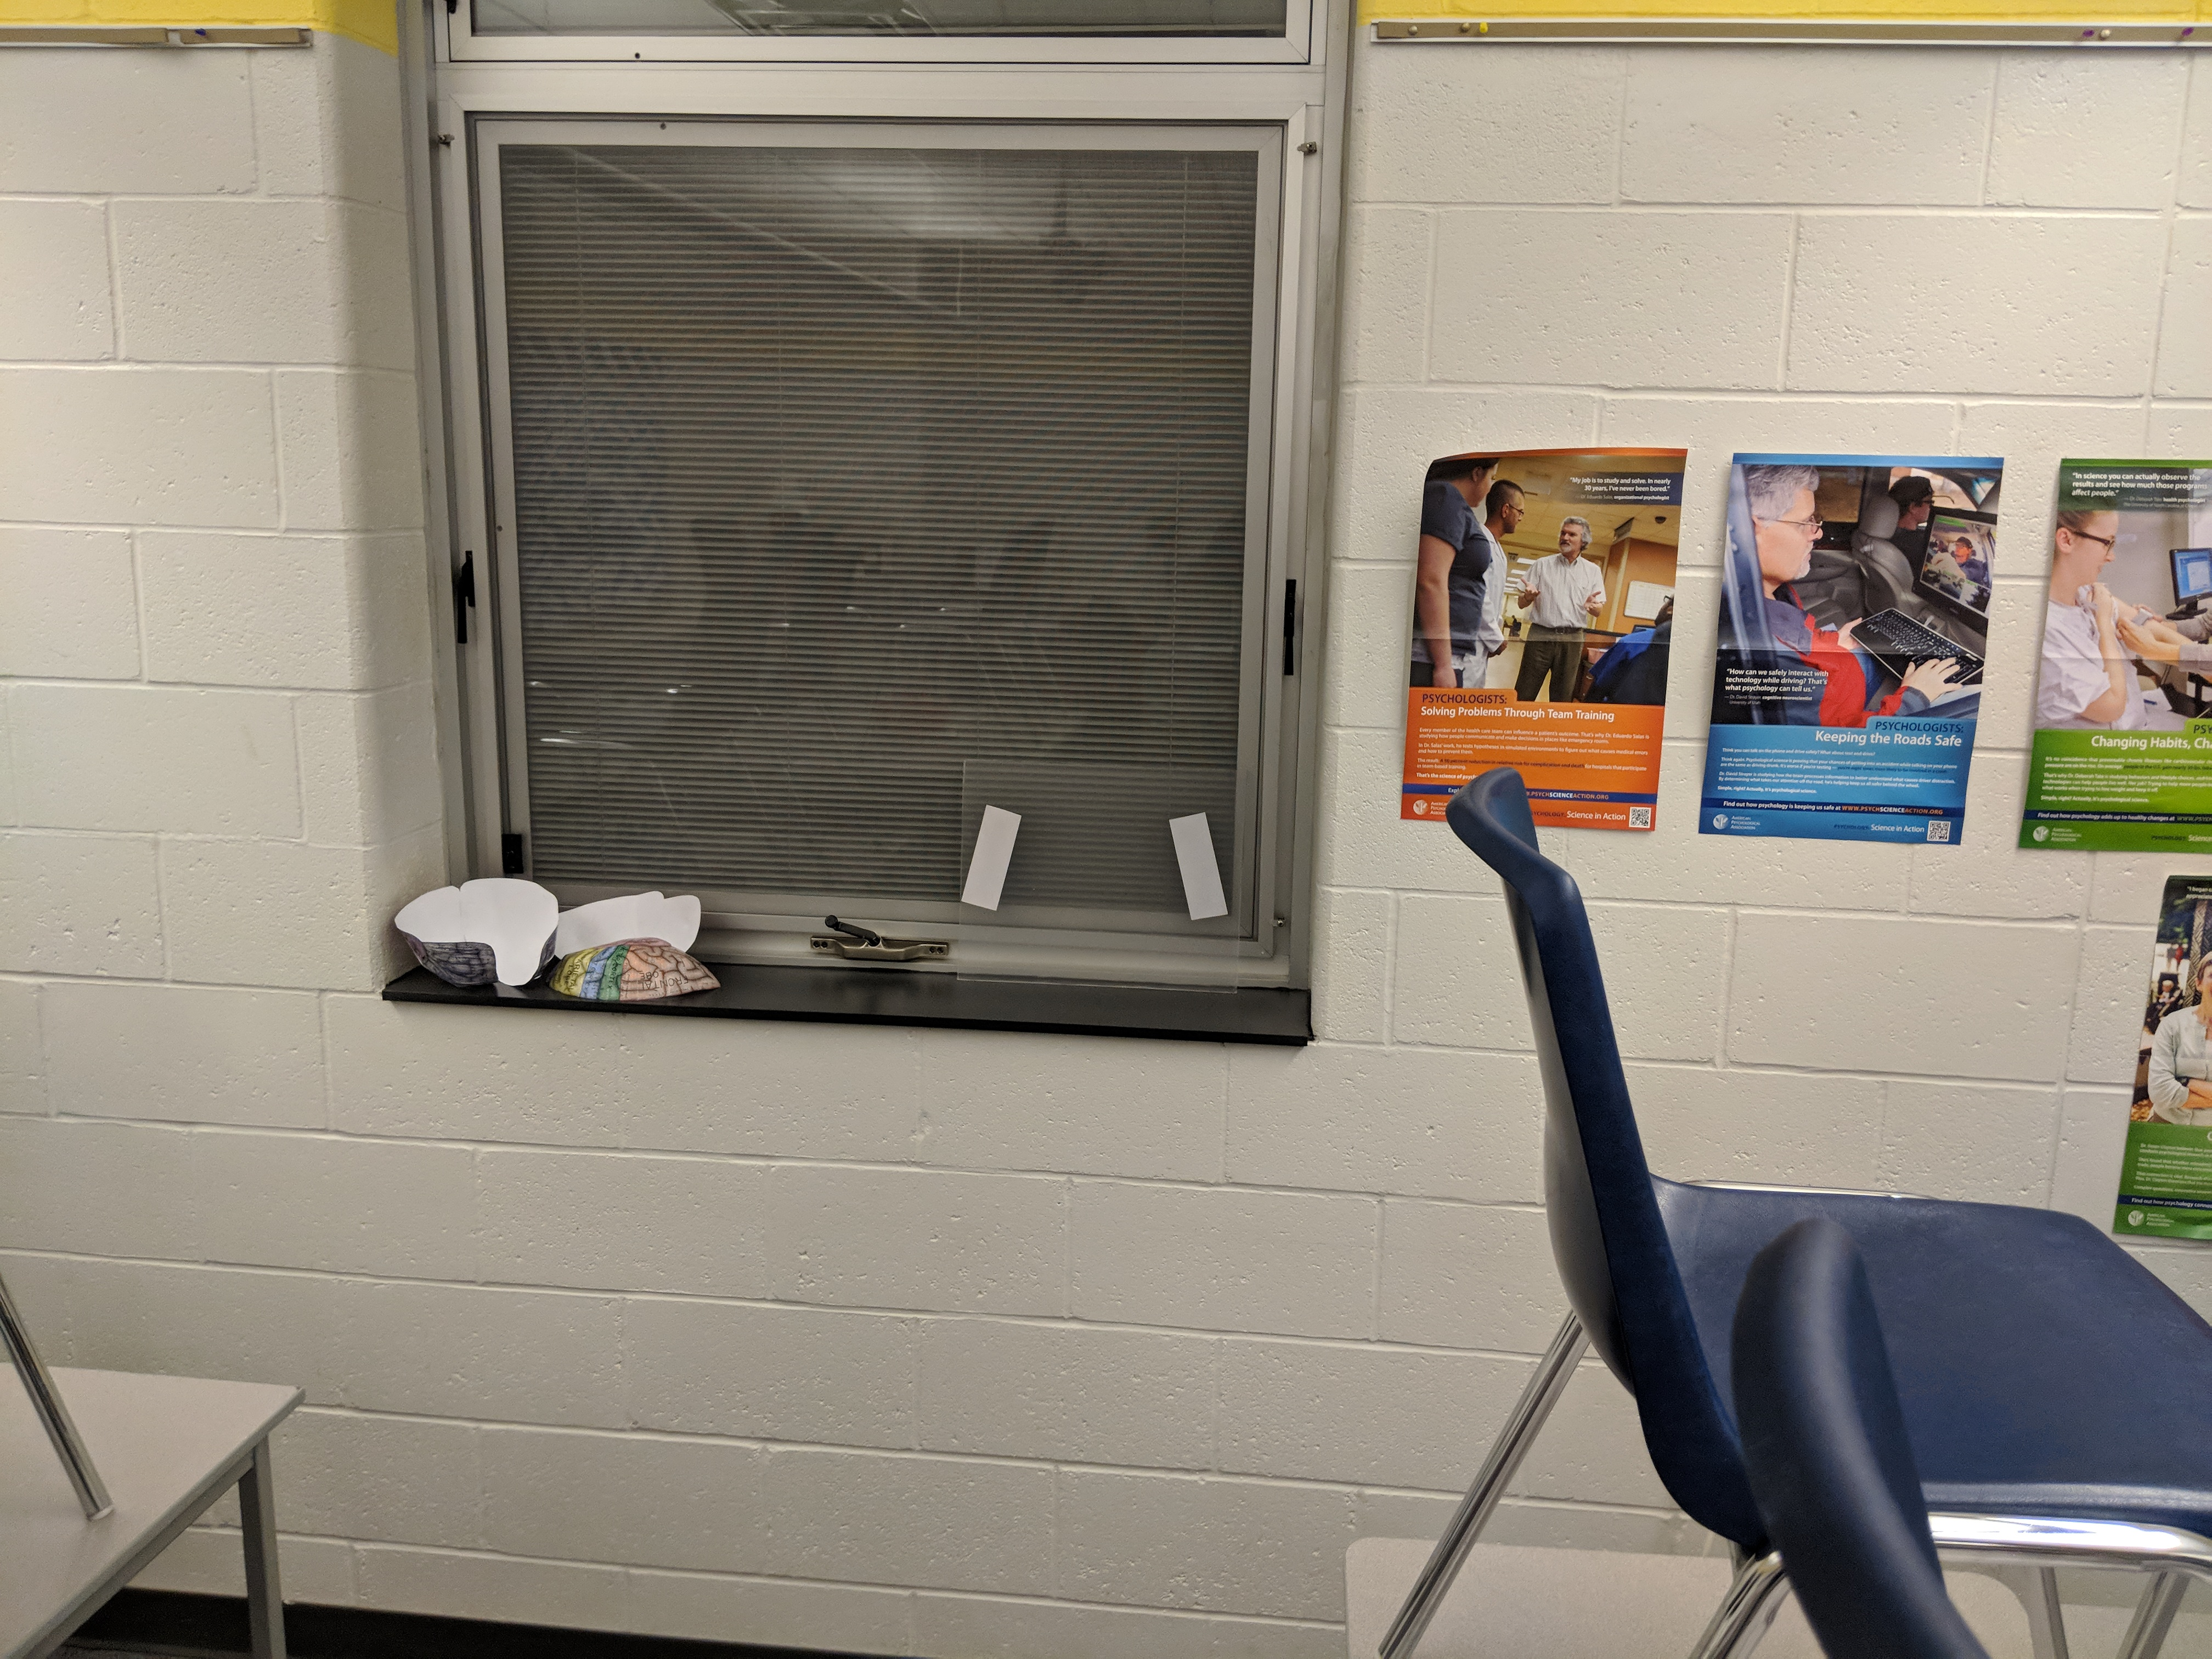vision_target: (956, 796, 1233, 932)
